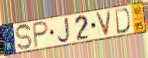2: (74, 13, 91, 43)
D: (114, 7, 132, 35)
J: (56, 16, 71, 44)
P: (32, 20, 50, 49)
S: (15, 24, 34, 51)
V: (94, 9, 113, 38)
